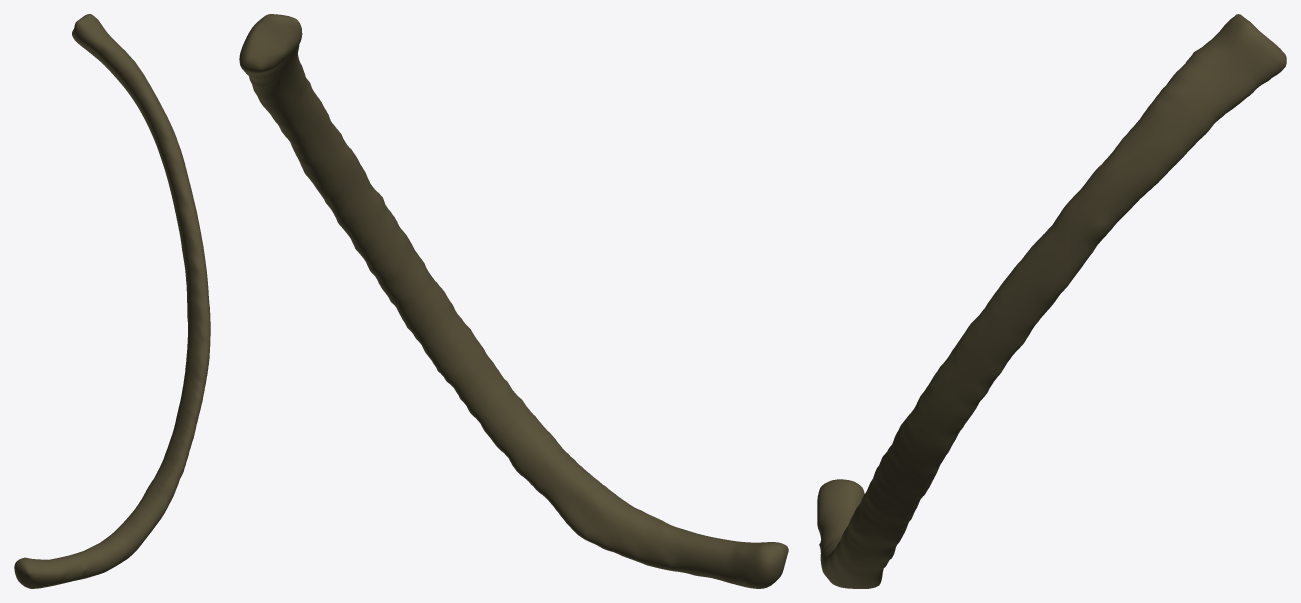
The model's file is segmentations_rib_right_7.obj.
3 renders of one model, left to right at view 1: azimuth 30°, elevation 25°; view 2: azimuth 150°, elevation 25°; view 3: azimuth 270°, elevation 25°, orthographic. The views are drawn at different scales.
Visible parts, largest first — view 1: grp1; view 2: grp1; view 3: grp1.
Boxes of the visible parts, x1=… form: grp1: x1=14, y1=14, x2=210, y2=588; grp1: x1=239, y1=14, x2=788, y2=588; grp1: x1=817, y1=14, x2=1286, y2=588.
Size of the model in its own units: 68.91 by 115 by 75.24.
